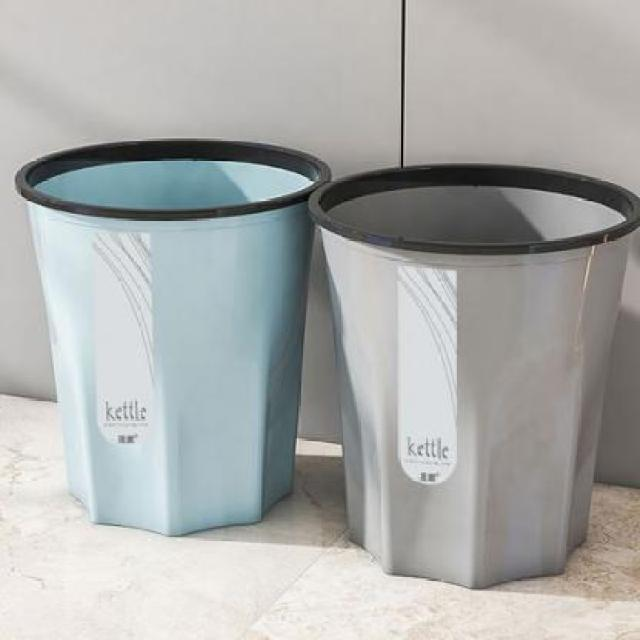dustbin: (303, 160, 640, 595), (12, 132, 334, 541)
